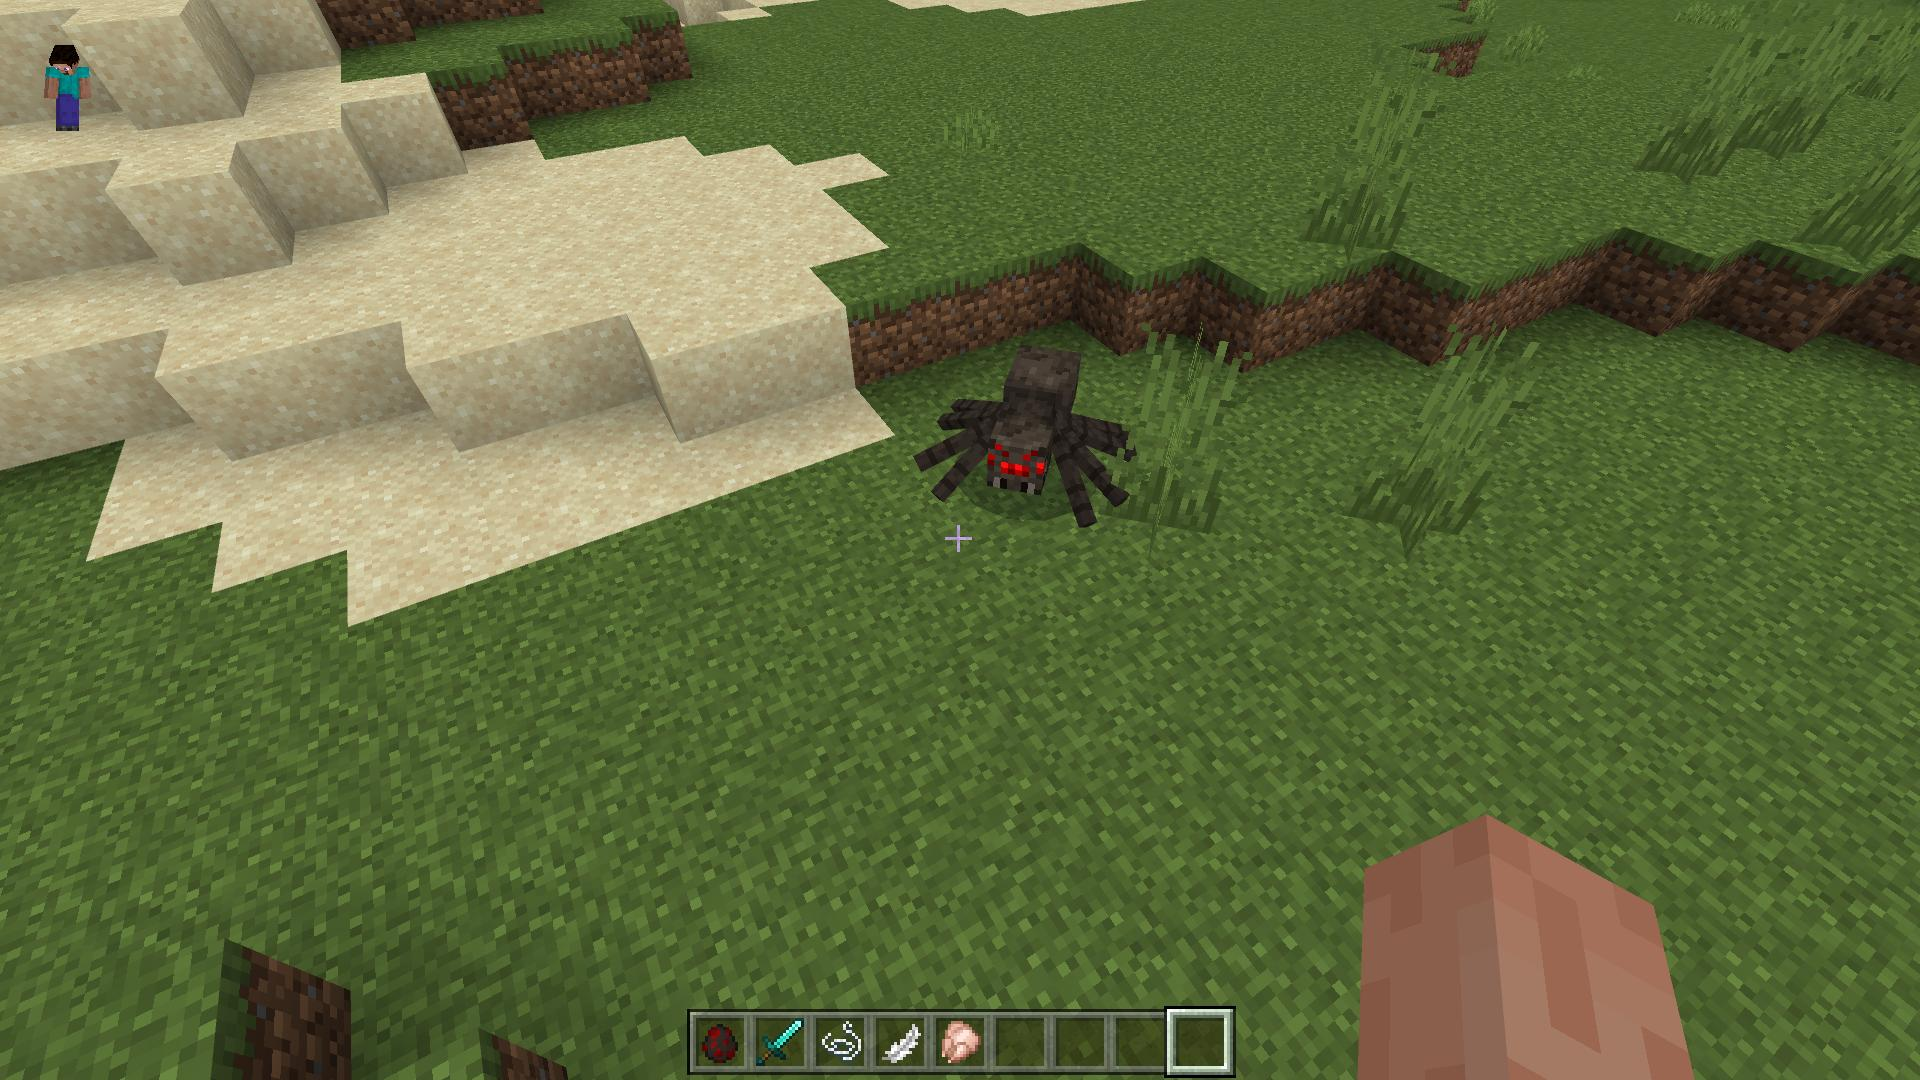spider: (910, 335, 1138, 530)
